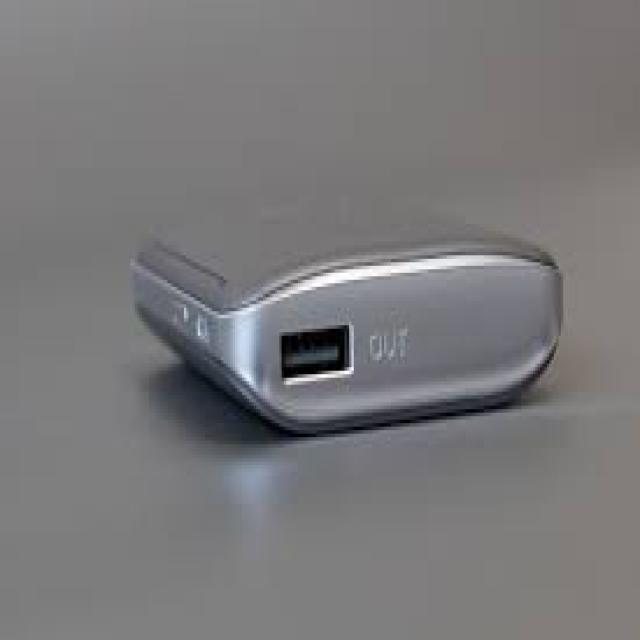power_bank: (135, 199, 568, 441)
